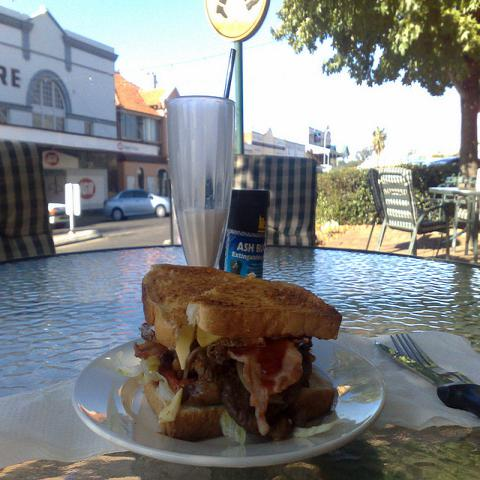car: (102, 188, 170, 221), (48, 203, 70, 226)
